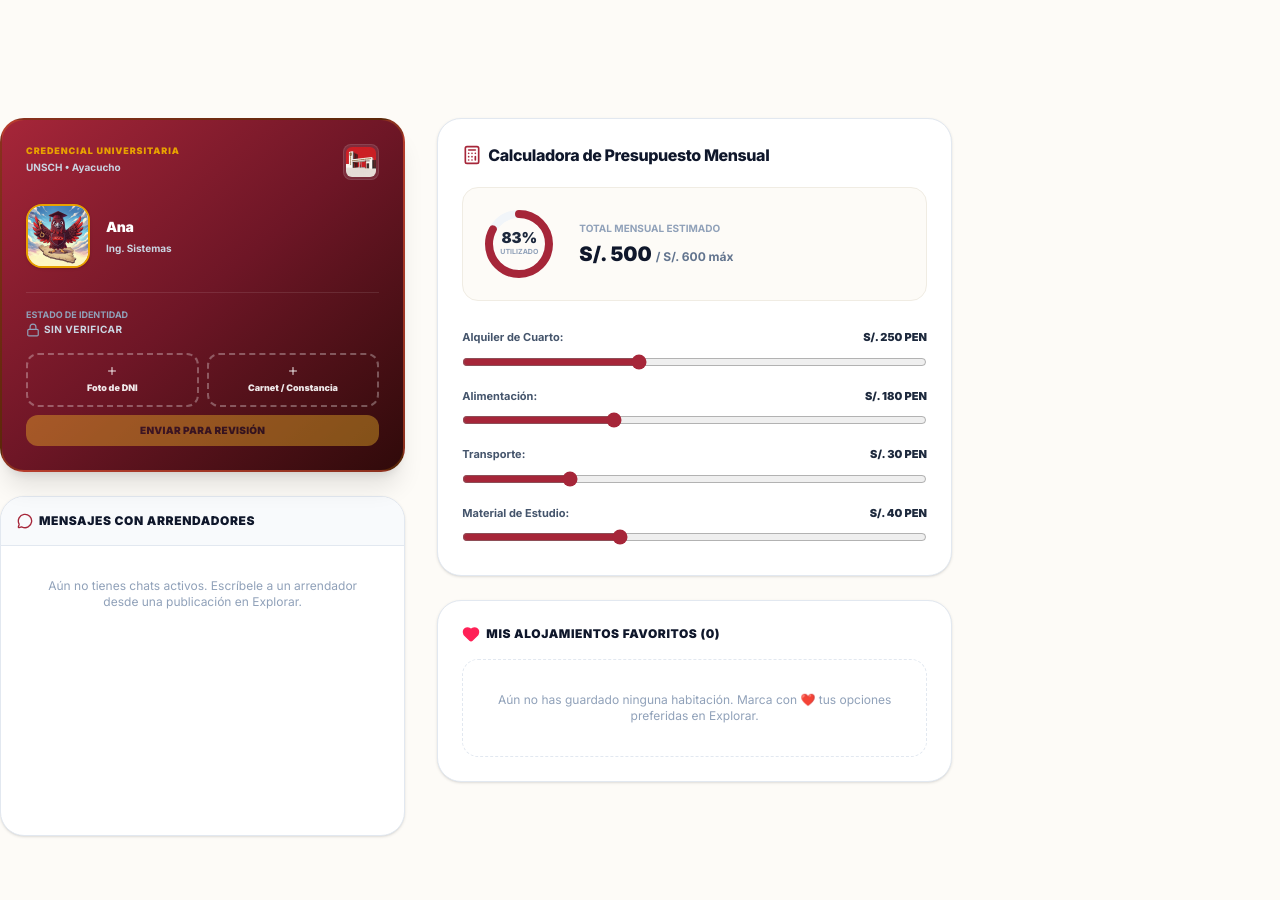
Test: StudentDashboard › mover el slider de alquiler actualiza el total del presupuesto
Expected: the text "Aún no tienes chats activos" is shown, [48,578,357,608]
Expected: the text "S/. 500 / S/. 600 máx" is shown, [579,242,734,266]
Step 1. Set the slider below "Alquiler de Cuarto" to "300" → (695, 362), box [462,354,927,370]
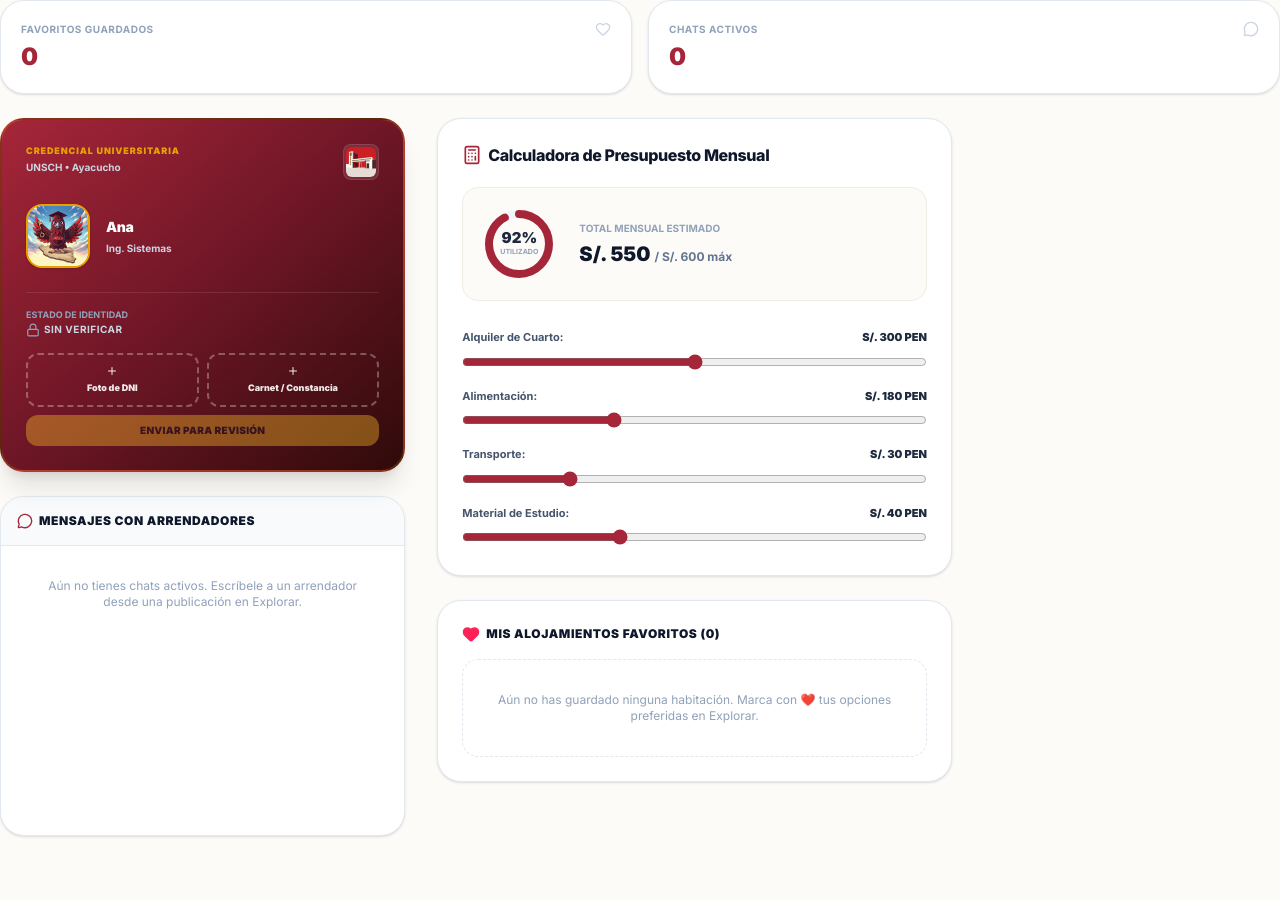
Now the text "S/. 550 / S/. 600 máx" is shown, box [579,242,732,266]
